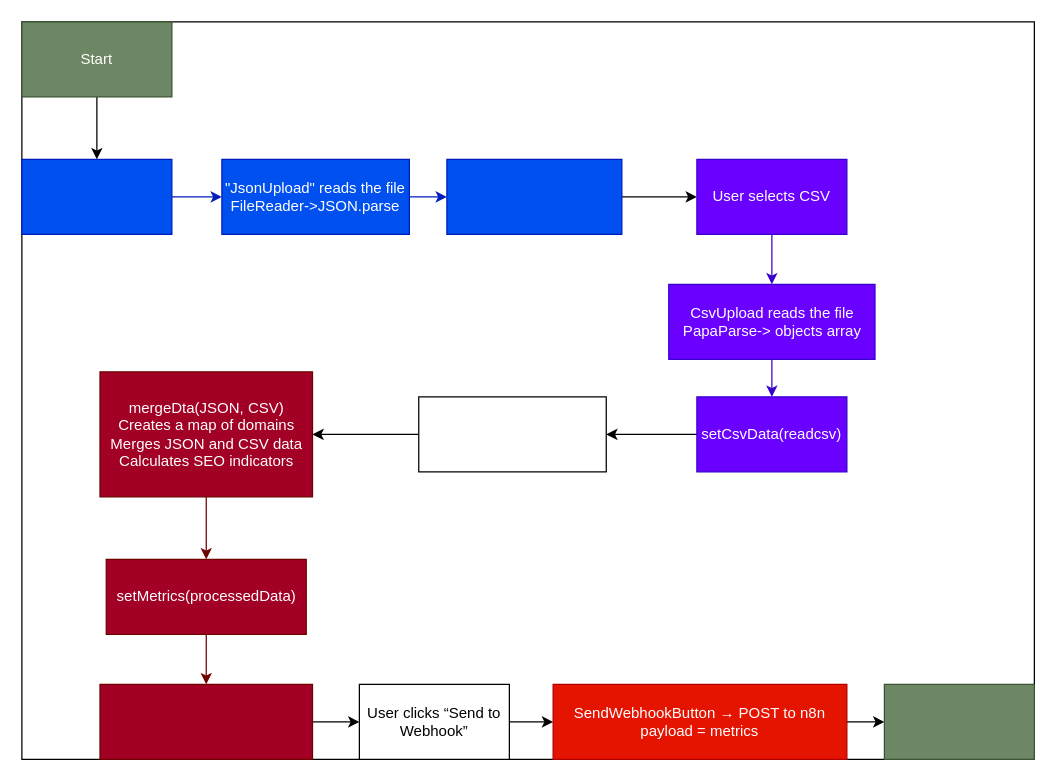
Image size: 1056x781. Some labels were removed from this diagram. The centre of each missing label's shape, as x and y in pixels:
DomainSummary displays results: the point at 205,721
End: the point at 958,721
setJsonData(readJson): the point at 534,196
User clicks "Process Data": the point at 512,434
User selects JSON: the point at 96,196
